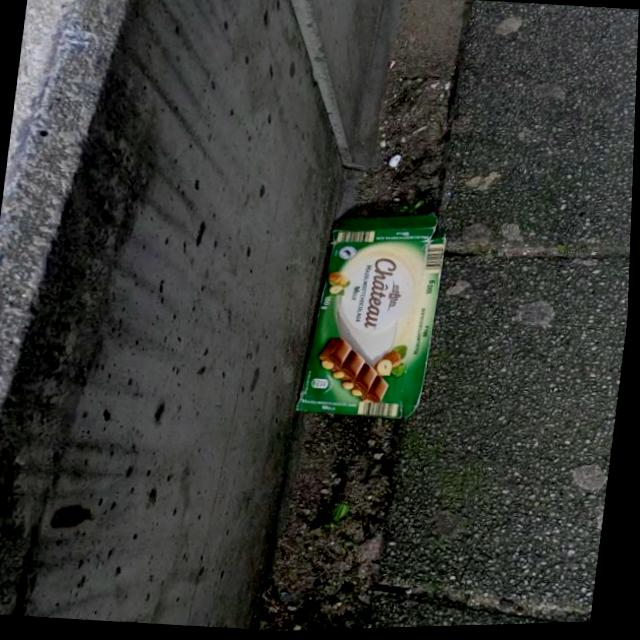Plastic: (297, 205, 451, 425)
